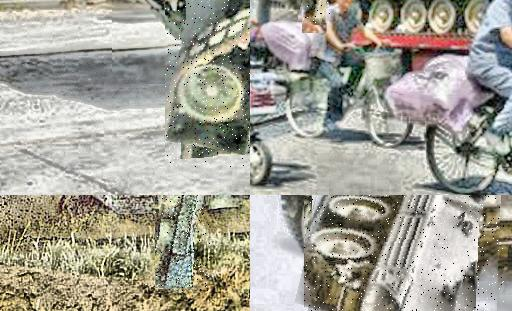tanks: (305, 196, 490, 311), (166, 1, 251, 158), (156, 196, 207, 292), (360, 1, 493, 36), (305, 1, 329, 24)
